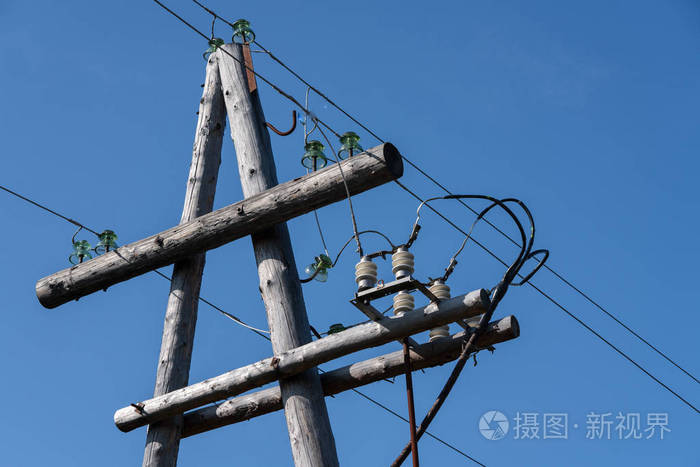insulator: (390, 250, 416, 274), (355, 259, 377, 283), (392, 292, 416, 312), (430, 282, 451, 300)
